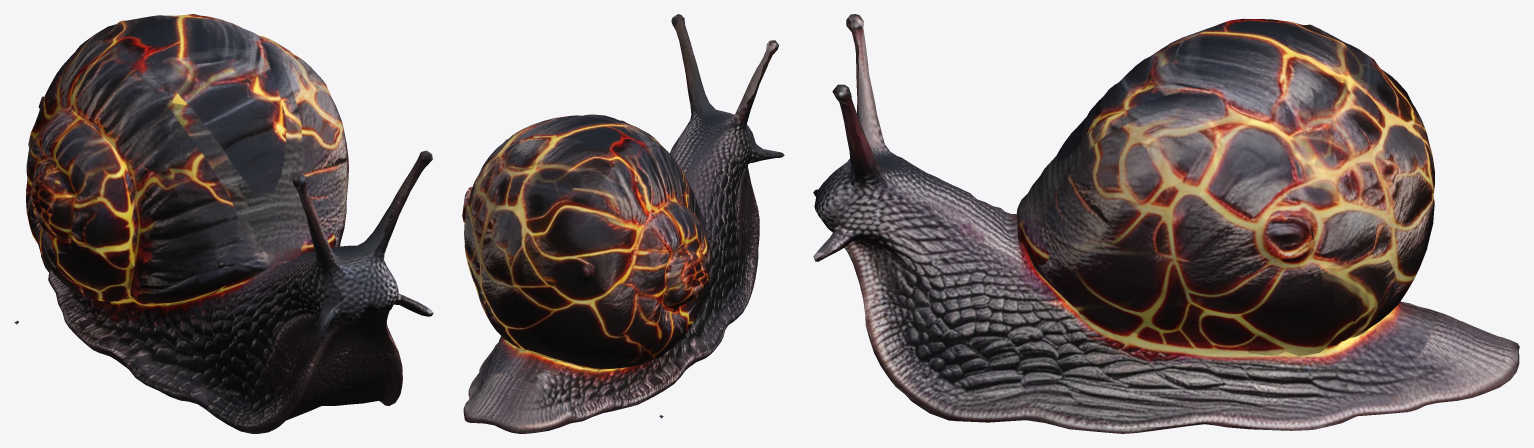
3 views of the same model, side by side, from view 1: azimuth 30°, elevation 25°; view 2: azimuth 150°, elevation 25°; view 3: azimuth 270°, elevation 25° (orthographic). The views are drawn at different scales.
Parts seen in each view (by area): view 1: Snail; view 2: Snail; view 3: Snail.
Boxes of the visible parts, x1=… form: Snail: x1=14, y1=14, x2=433, y2=433; Snail: x1=462, y1=14, x2=784, y2=433; Snail: x1=813, y1=14, x2=1519, y2=433.
Size of the model in its own units: 0.0616 by 0.0646 by 0.12.
1 material, 1 textured.
